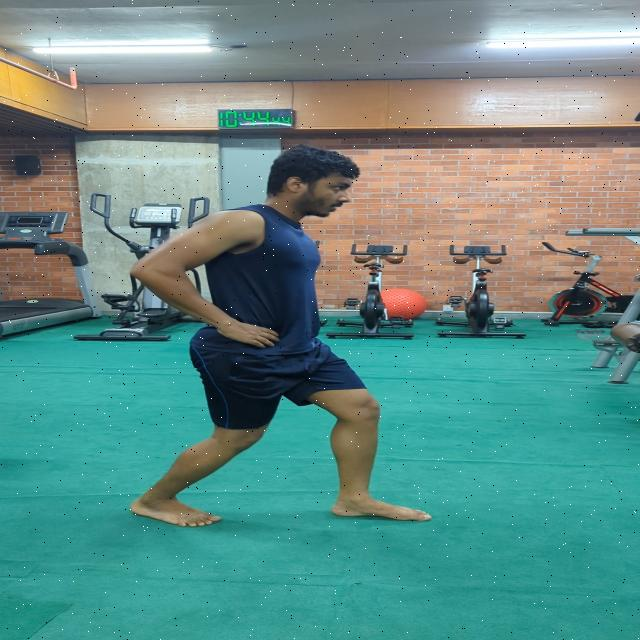Normal_Lunges: (110, 145, 447, 530)
